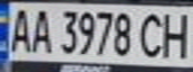3: (54, 7, 78, 55)
7: (93, 8, 115, 56)
8: (112, 8, 136, 57)
9: (75, 7, 96, 56)
A: (3, 4, 36, 54), (27, 6, 54, 54)
C: (136, 9, 169, 60)
H: (157, 8, 193, 60)
